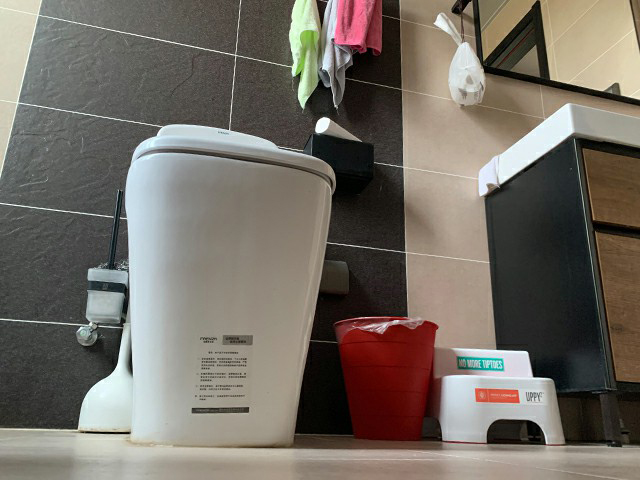cabinet: (478, 102, 640, 448)
closestool: (122, 123, 334, 446)
trashcan: (332, 315, 440, 442)
